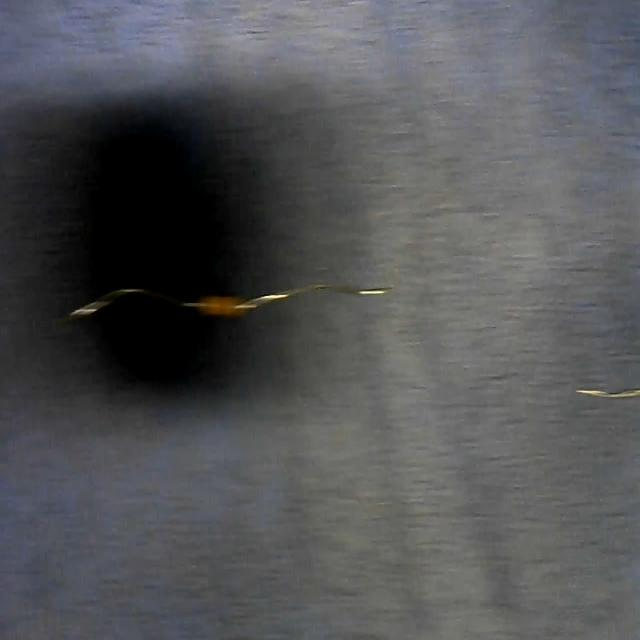resistor: (70, 267, 375, 330)
